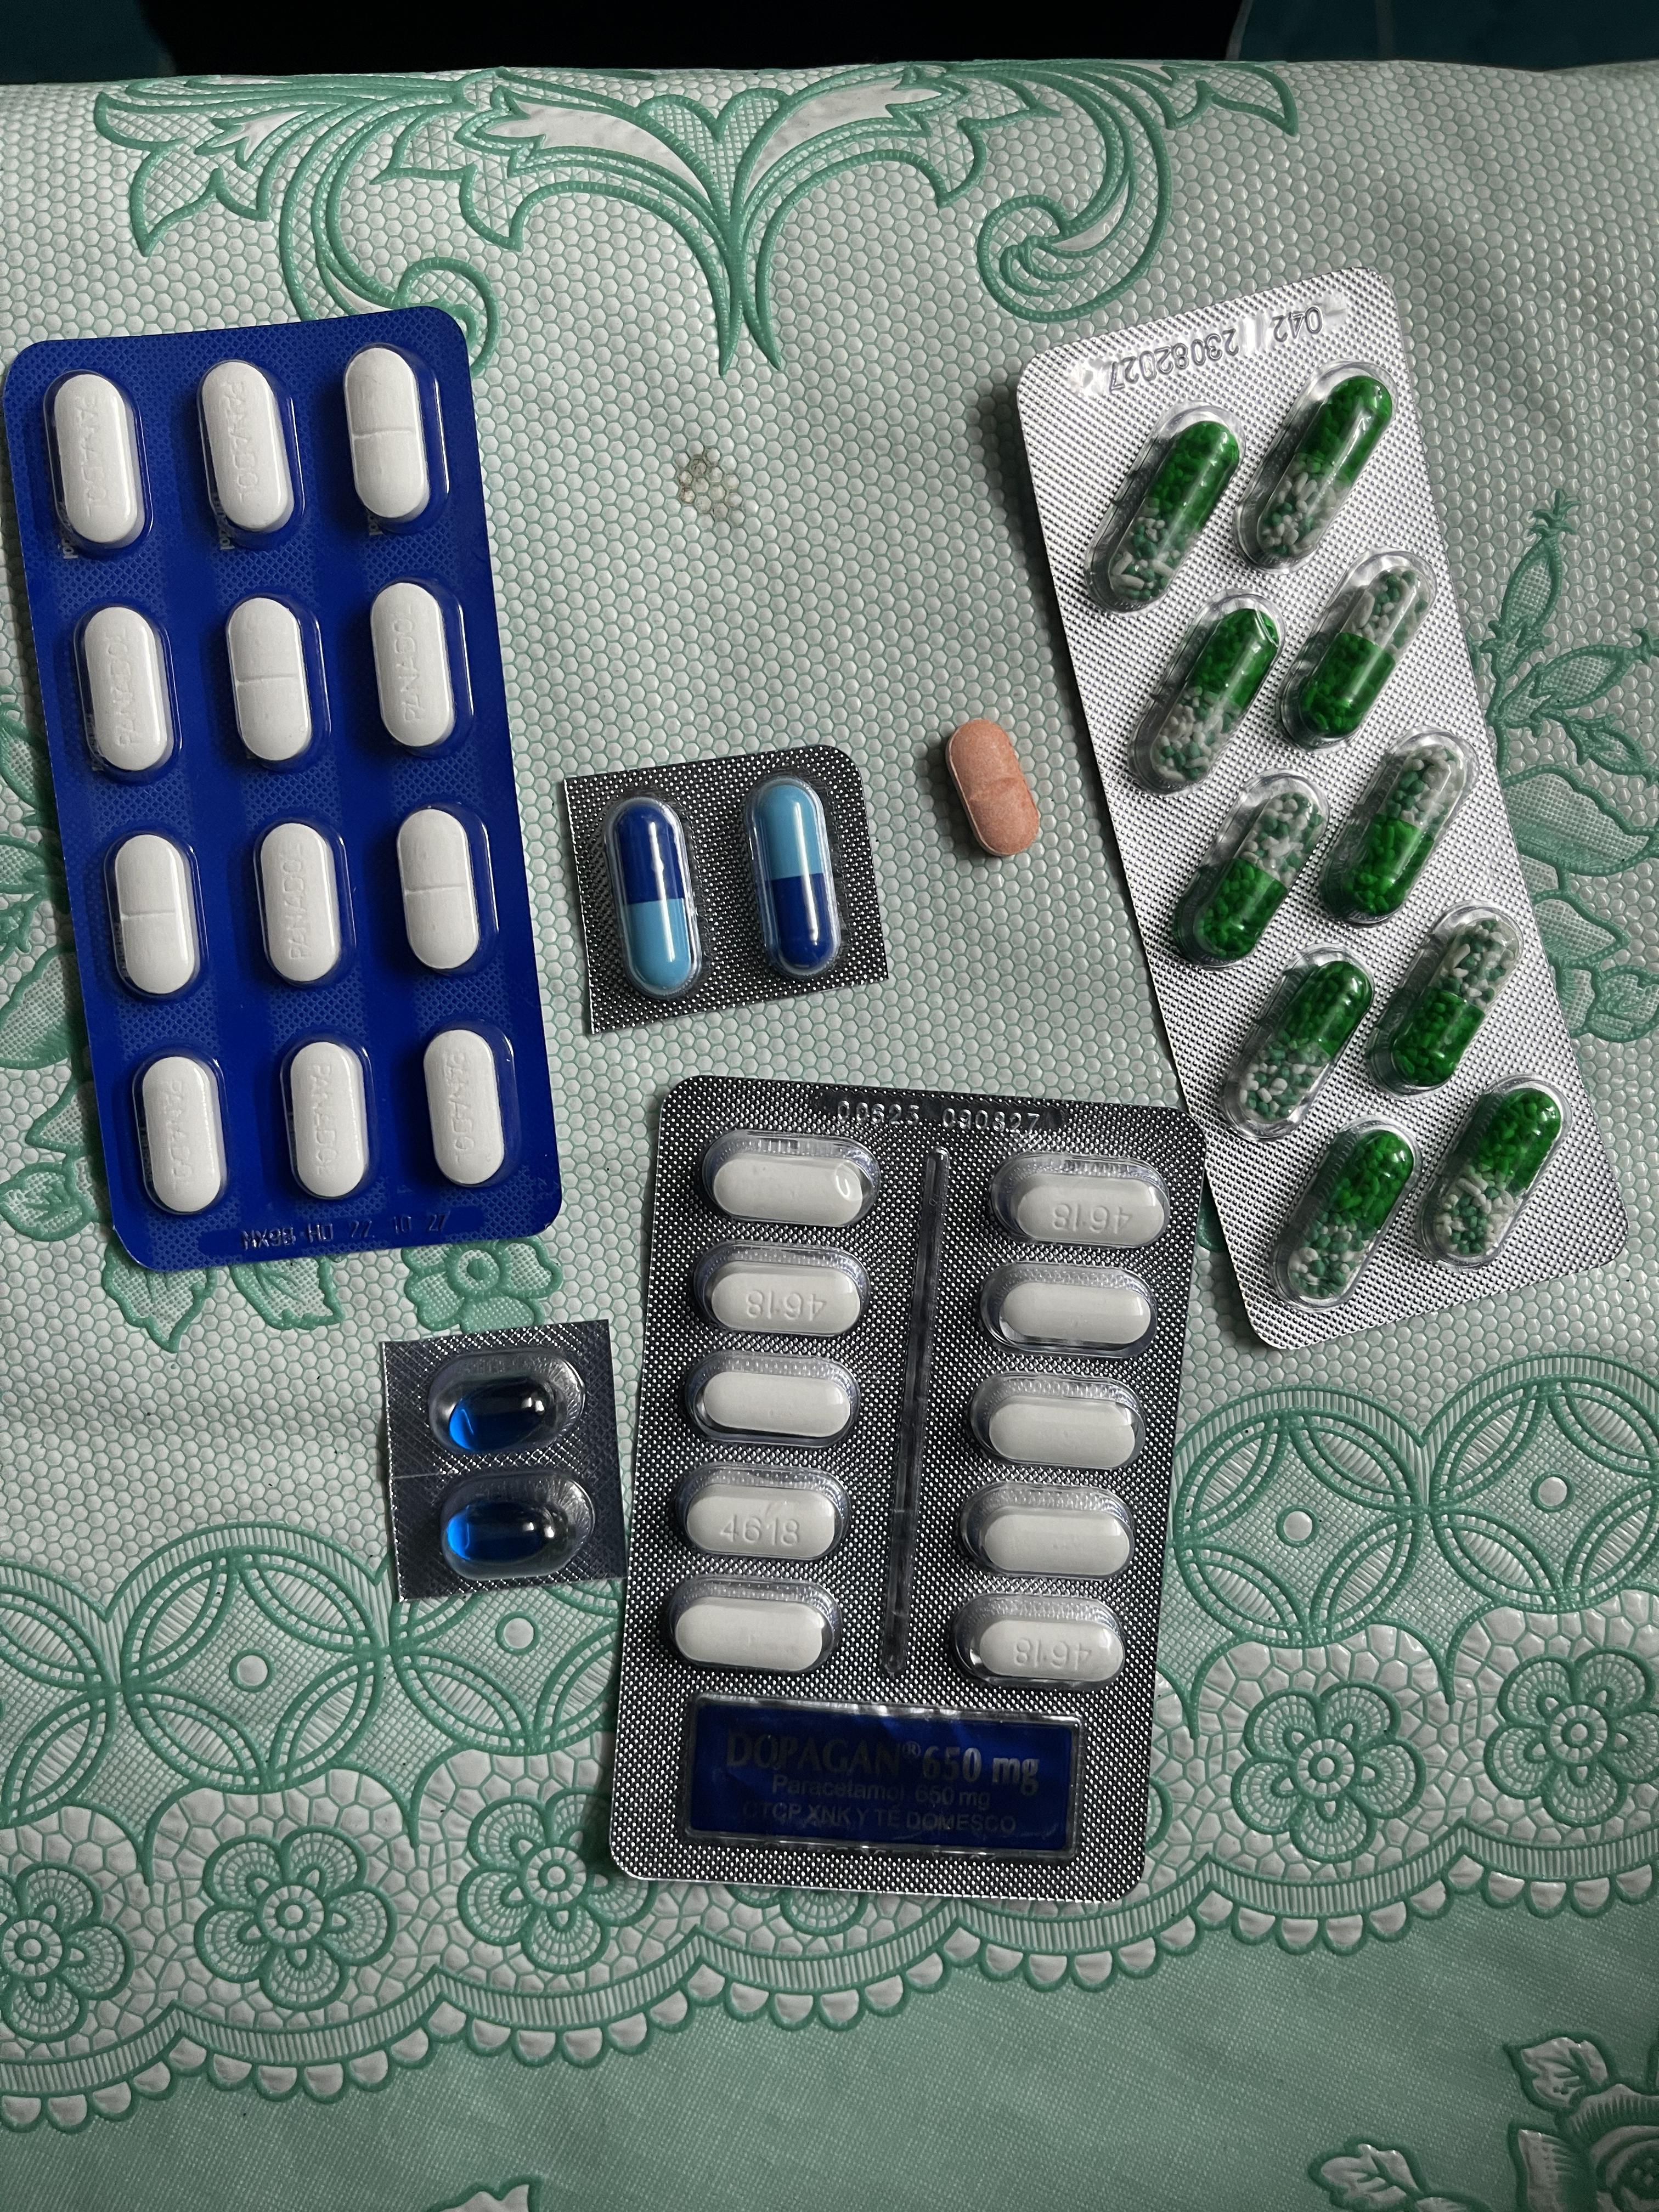Lincomyxin_500mg: (444, 1379, 556, 1454), (444, 1498, 559, 1568)
Loratadine_10mg: (946, 719, 1040, 857)
Paracetamol_350mg: (47, 371, 150, 559), (199, 359, 300, 547), (343, 347, 437, 535), (77, 606, 174, 782), (106, 831, 202, 1001), (371, 582, 460, 756), (227, 599, 315, 770), (254, 819, 345, 986), (136, 1054, 227, 1214), (397, 806, 484, 972), (286, 1040, 371, 1202), (423, 1029, 507, 1186)
Paracetamol_500mg: (990, 1155, 1164, 1247), (701, 1129, 871, 1223), (673, 1467, 840, 1559), (701, 1245, 866, 1336), (981, 1264, 1152, 1352), (695, 1367, 854, 1442), (674, 1597, 830, 1672), (974, 1508, 1133, 1576), (972, 1616, 1121, 1684), (990, 1402, 1141, 1468)
Paracetamol_650mg: (1328, 740, 1467, 916), (1108, 418, 1241, 603), (1385, 911, 1525, 1085), (1147, 613, 1279, 794), (1295, 573, 1427, 747), (1258, 380, 1384, 561), (1187, 786, 1321, 954), (1234, 961, 1371, 1125), (1434, 1092, 1561, 1251), (1293, 1134, 1415, 1292)
pill: (605, 787, 701, 998), (746, 775, 840, 984)
